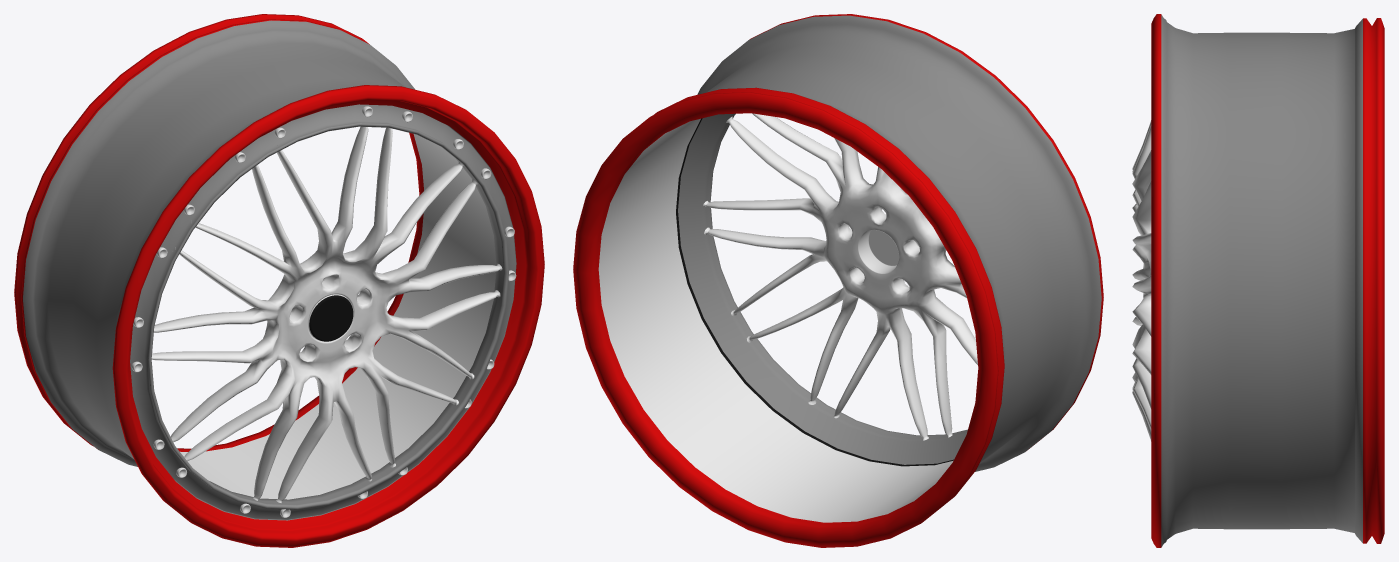
Rendered from 5X20Rim.fbx.
The picture shows the model from 3 angles, left to right: view 1: azimuth 30°, elevation 25°; view 2: azimuth 150°, elevation 25°; view 3: azimuth 270°, elevation 25°; orthographic projection. The views are drawn at different scales.
Parts seen in each view (by area): view 1: Rim_LOD0; view 2: Rim_LOD0; view 3: Rim_LOD0.
Boxes of the visible parts, x1,y1,x2,y2 form: Rim_LOD0: (14, 14, 544, 547); Rim_LOD0: (573, 14, 1103, 547); Rim_LOD0: (1132, 14, 1384, 547).
Size of what is drawn, in the model's own units: 205 by 205 by 96.37.
